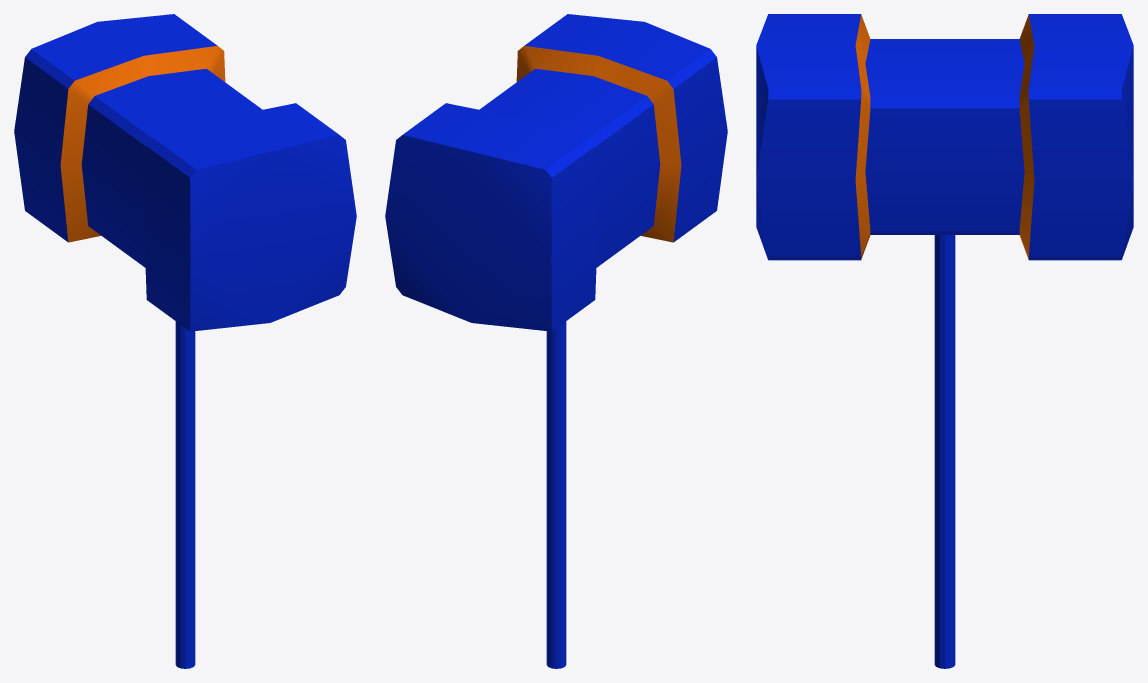
Rendered from Grruzam_WeaponMesh_Hammer.FBX.
3 renders of one model, left to right at view 1: azimuth 30°, elevation 25°; view 2: azimuth 150°, elevation 25°; view 3: azimuth 270°, elevation 25°, orthographic. The views are drawn at different scales.
Visible parts, largest first — view 1: Grruzam_Weapon_Hammer; view 2: Grruzam_Weapon_Hammer; view 3: Grruzam_Weapon_Hammer.
Part boxes in pixels (box(x1,y1,x2,y2)): Grruzam_Weapon_Hammer: box(14, 14, 356, 668); Grruzam_Weapon_Hammer: box(385, 14, 727, 668); Grruzam_Weapon_Hammer: box(756, 14, 1133, 668).
Size of the model in its own units: 47.47 by 158 by 87.18.
